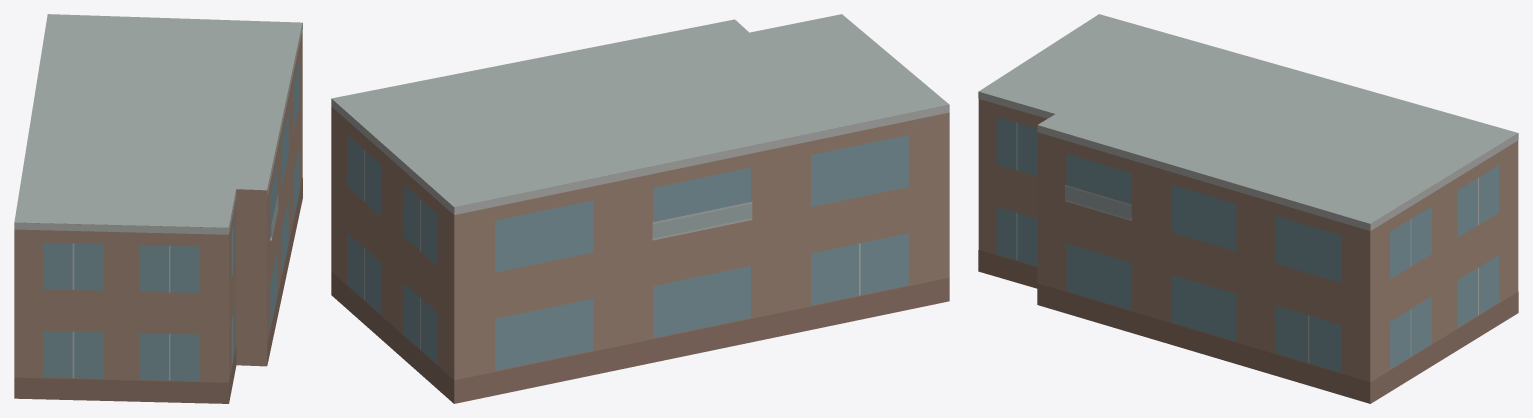
File: survey-upis-32653694.glb
The picture shows the model from 3 angles, left to right: view 1: azimuth 30°, elevation 25°; view 2: azimuth 150°, elevation 25°; view 3: azimuth 270°, elevation 25°; orthographic projection. The views are drawn at different scales.
Visible parts, largest first — view 1: survey-upis-32653694.tmp; view 2: survey-upis-32653694.tmp; view 3: survey-upis-32653694.tmp.
Boxes of the visible parts, x1=… form: survey-upis-32653694.tmp: x1=14, y1=14, x2=302, y2=403; survey-upis-32653694.tmp: x1=331, y1=14, x2=949, y2=403; survey-upis-32653694.tmp: x1=978, y1=14, x2=1518, y2=403.
Size of the model in its own units: 15.27 by 6.1 by 16.6.
